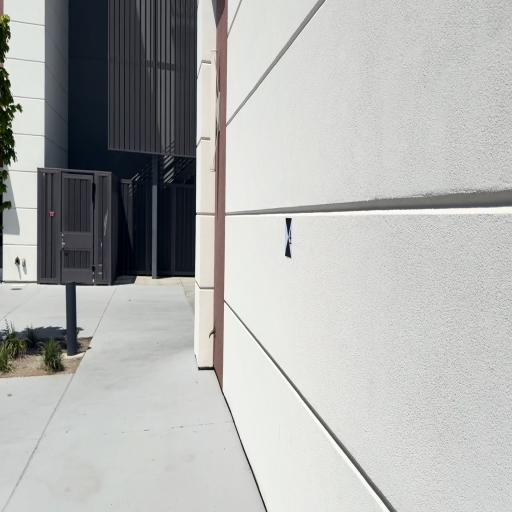target4: (285, 216, 292, 259)
